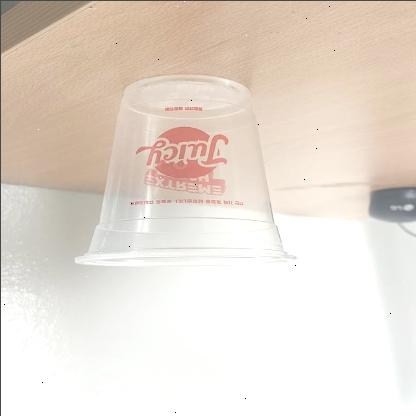Others: (74, 72, 298, 266)
